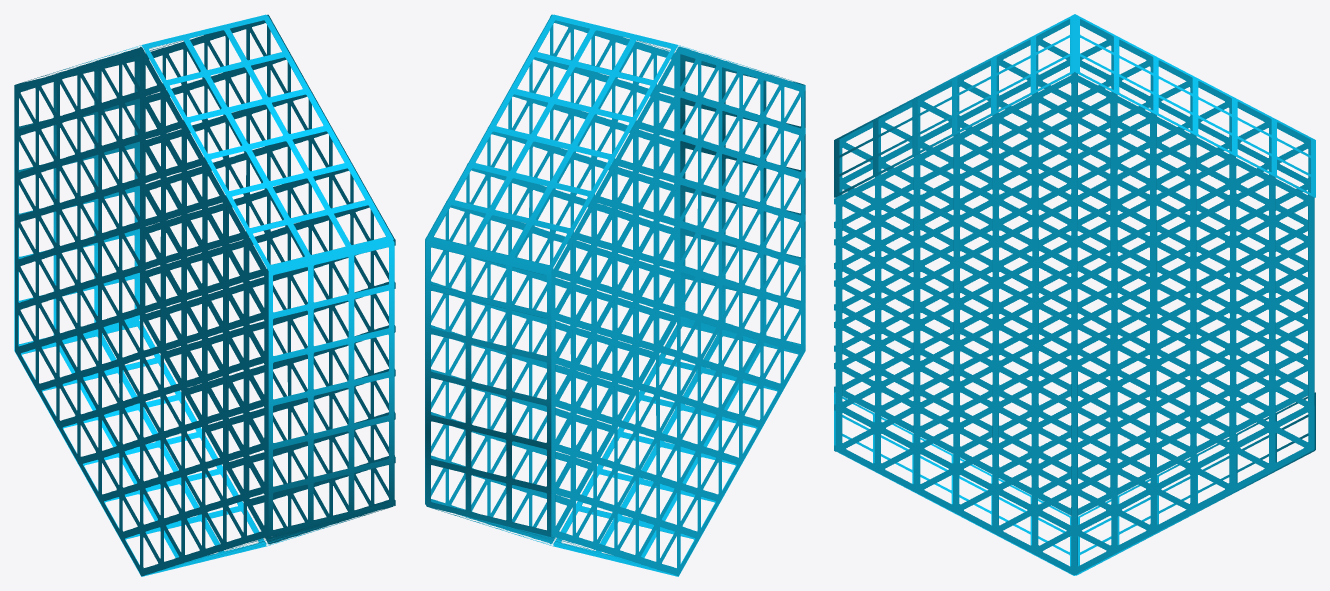
The model's file is SM_PracticeTarget.FBX.
3 views of the same model, side by side, from view 1: azimuth 30°, elevation 25°; view 2: azimuth 150°, elevation 25°; view 3: azimuth 270°, elevation 25° (orthographic). The views are drawn at different scales.
Visible parts, largest first — view 1: Cylinder001; view 2: Cylinder001; view 3: Cylinder001.
Boxes of the visible parts, x1=… form: Cylinder001: x1=14, y1=14, x2=395, y2=576; Cylinder001: x1=425, y1=14, x2=805, y2=576; Cylinder001: x1=834, y1=14, x2=1315, y2=575.
Bounding box in the file's own units: 200 × 800 × 693.
1 material, 1 textured.
